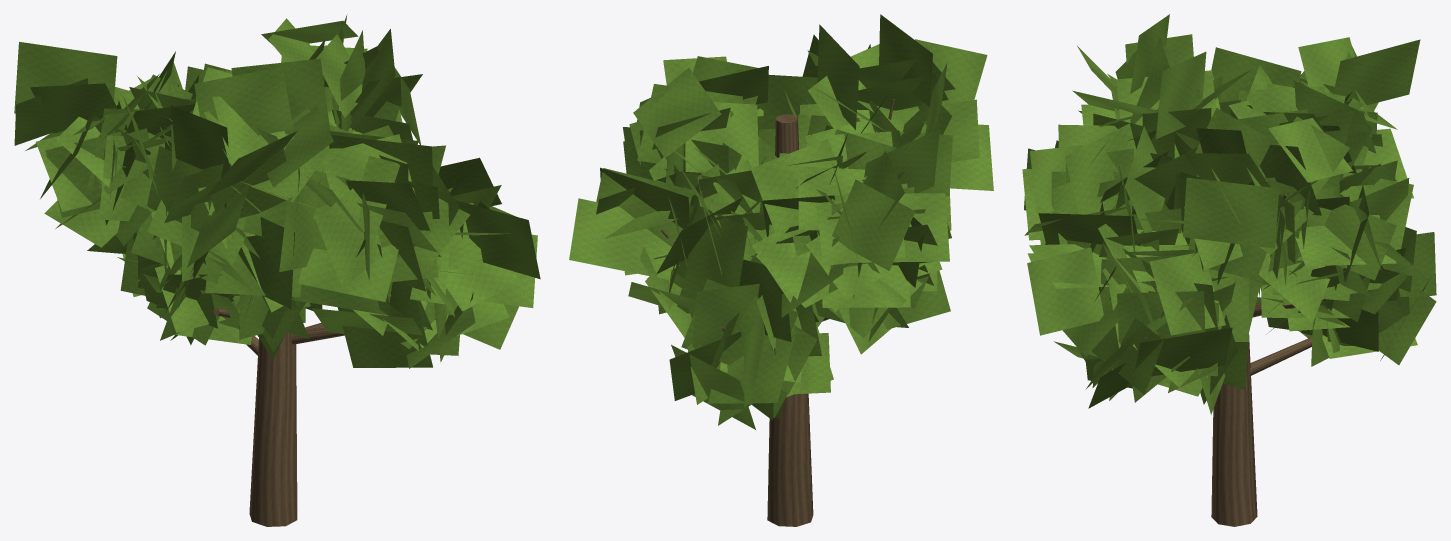
The picture shows the model from 3 angles, left to right: view 1: azimuth 30°, elevation 25°; view 2: azimuth 150°, elevation 25°; view 3: azimuth 270°, elevation 25°; orthographic projection. The views are drawn at different scales.
Visible parts, largest first — view 1: oak-leaf, oak-bark; view 2: oak-leaf, oak-bark; view 3: oak-leaf, oak-bark.
Part boxes in pixels (left/top/right/bottom): oak-leaf: left=14, top=14, right=540, bottom=368; oak-bark: left=213, top=207, right=435, bottom=526; oak-leaf: left=569, top=14, right=993, bottom=429; oak-bark: left=660, top=99, right=894, bottom=526; oak-leaf: left=1022, top=14, right=1436, bottom=414; oak-bark: left=1211, top=194, right=1325, bottom=526.
Bounding box in the file's own units: 7.91 × 9.31 × 7.55.
Materials: 2 (2 with a texture image).
